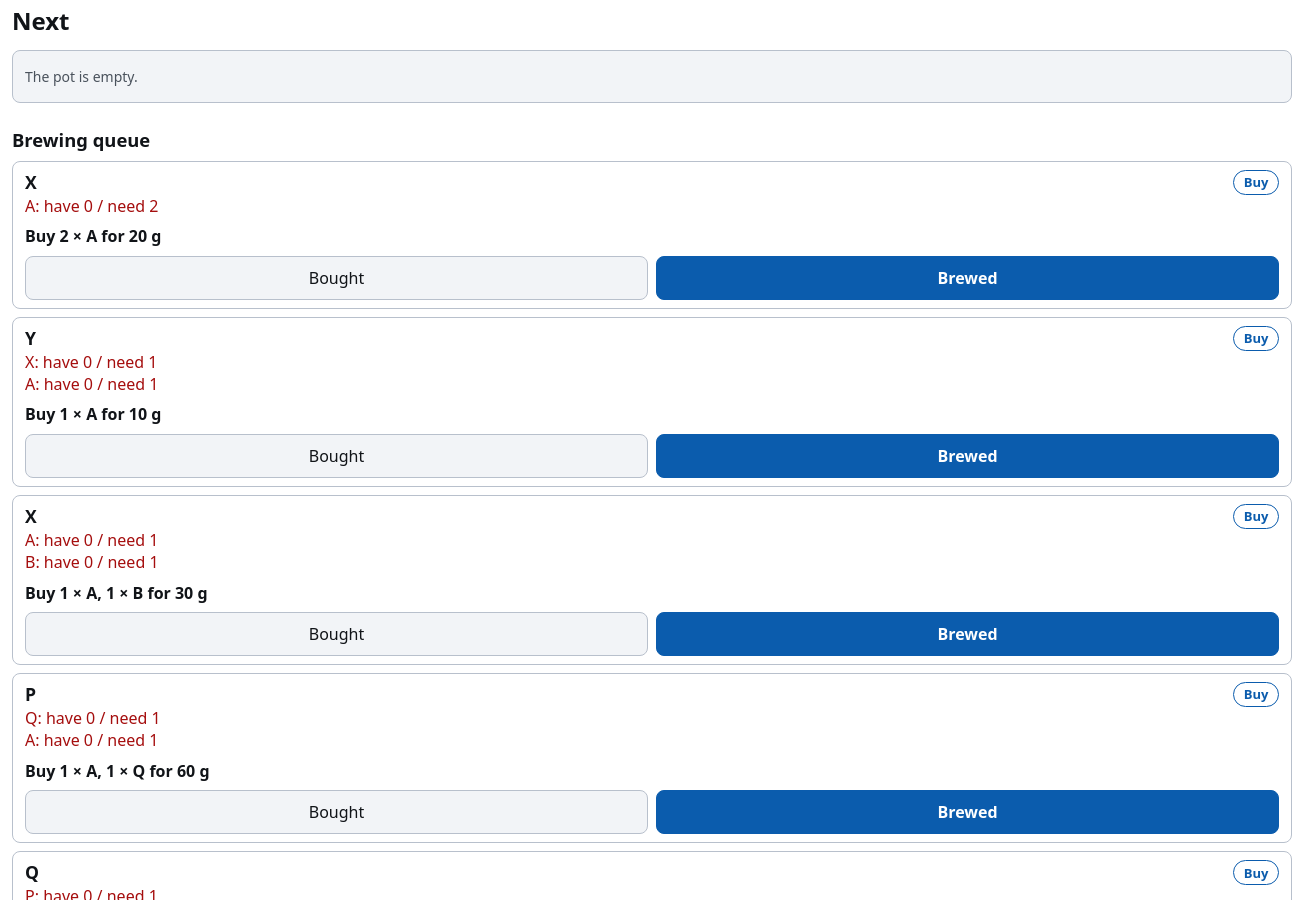
it: Next › Bought then Brewed moves the entry into the pot and counts the brew
This screenshot has width=1304, height=900.
Click the button with aria-label "Bought 2 A" at (336, 278), box [25,256,648,300]
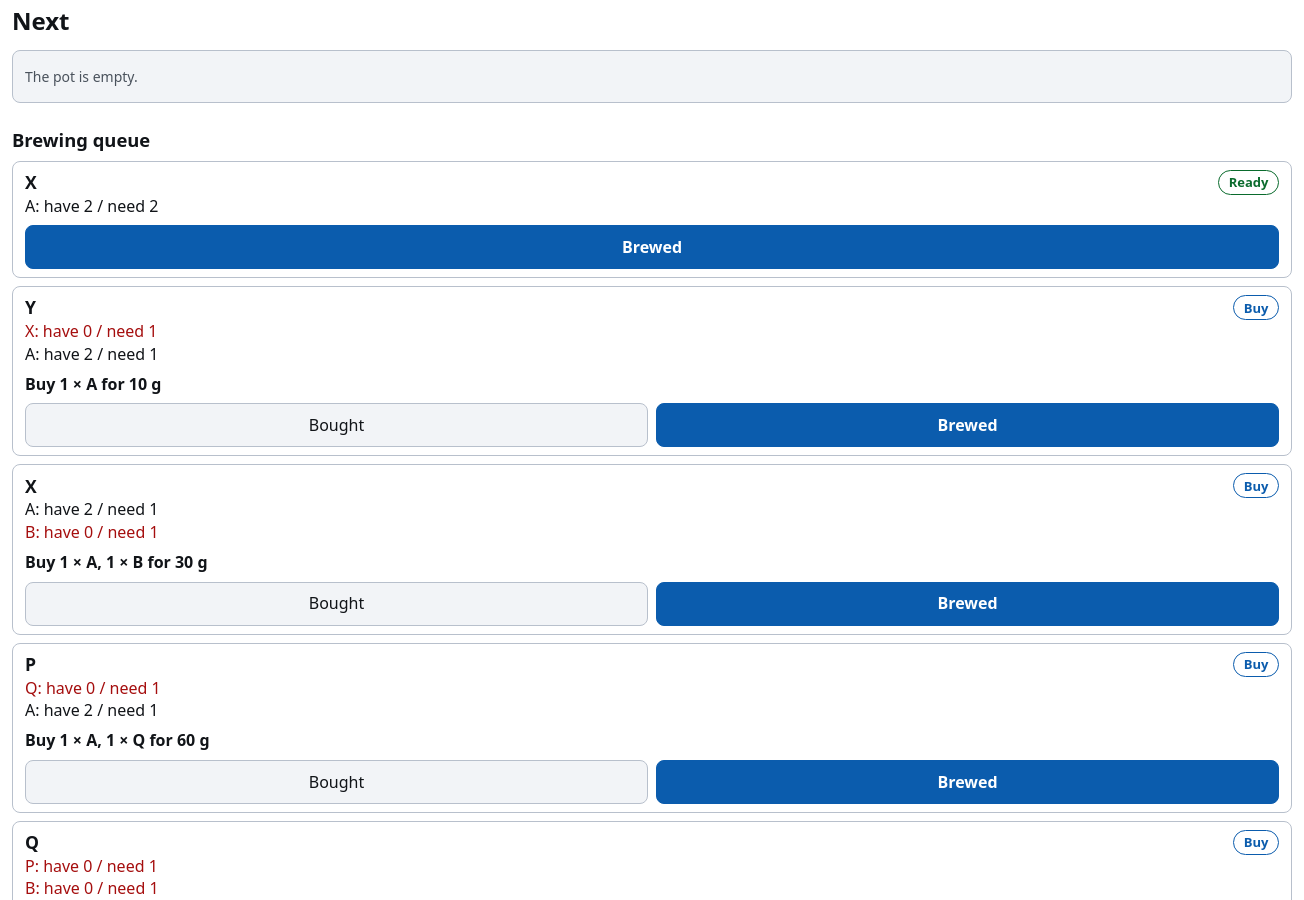
Click the button with aria-label "Brewed X" at (652, 247), box [25,225,1279,269]
(page scrolled)
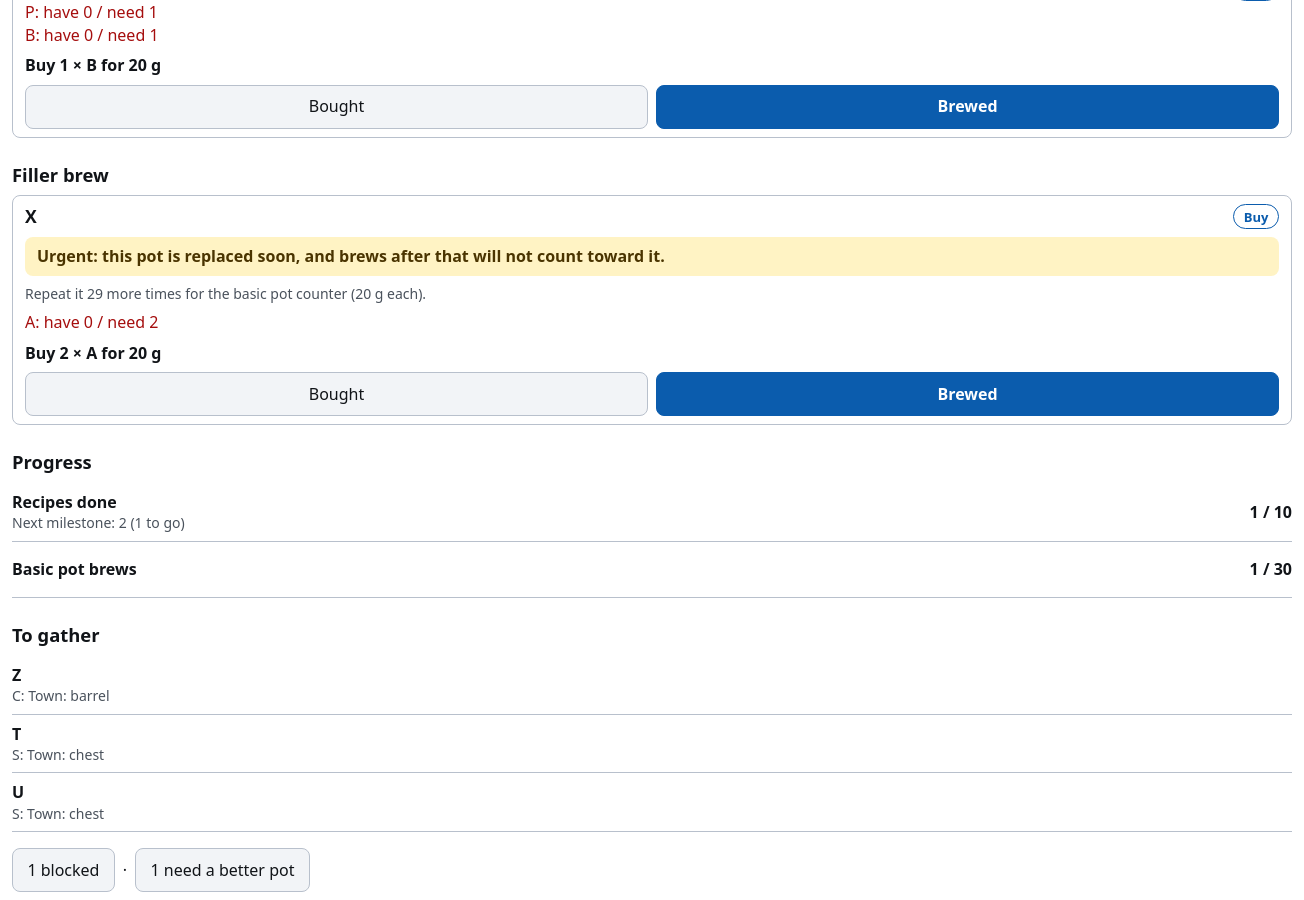
Expected: the text "1 / 30" is shown, [1250,558,1292,580]
